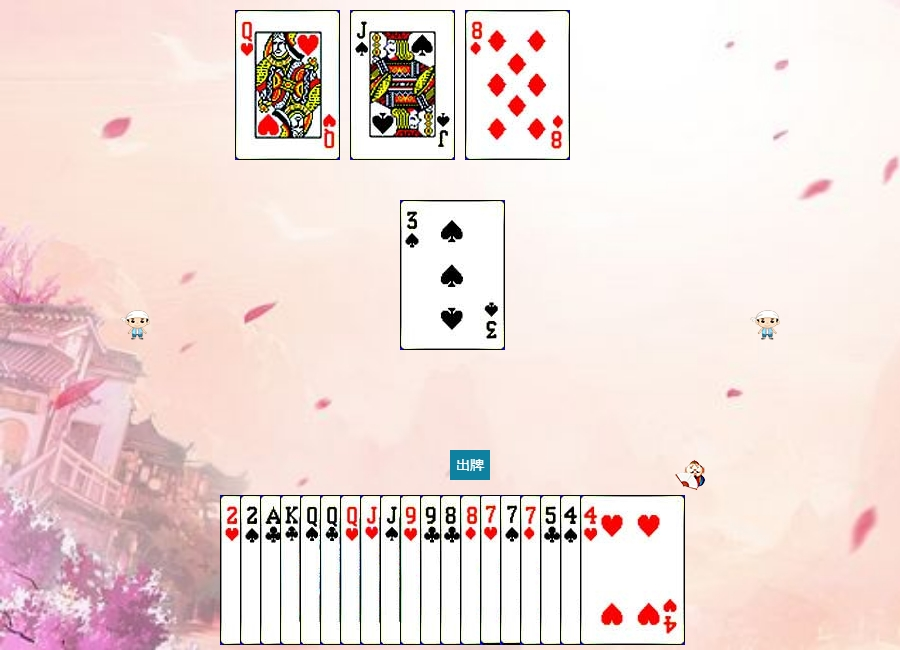11~3: (360, 495, 465, 645)
11~4: (350, 10, 455, 160), (380, 495, 485, 645)
12~2: (320, 495, 425, 645)
12~3: (235, 10, 340, 160), (340, 495, 445, 645)
12~4: (300, 495, 405, 645)
13~2: (280, 495, 385, 645)
14~2: (260, 495, 365, 645)
15~3: (220, 495, 325, 645)
15~4: (240, 495, 345, 645)
3~4: (400, 200, 505, 350)
4~3: (580, 495, 685, 645)
4~4: (560, 495, 665, 645)
5~2: (540, 495, 645, 645)
7~1: (520, 495, 625, 645)
7~3: (480, 495, 585, 645)
7~4: (500, 495, 605, 645)
8~1: (465, 10, 570, 160), (460, 495, 565, 645)
8~2: (440, 495, 545, 645)
9~2: (420, 495, 525, 645)
9~3: (400, 495, 505, 645)
